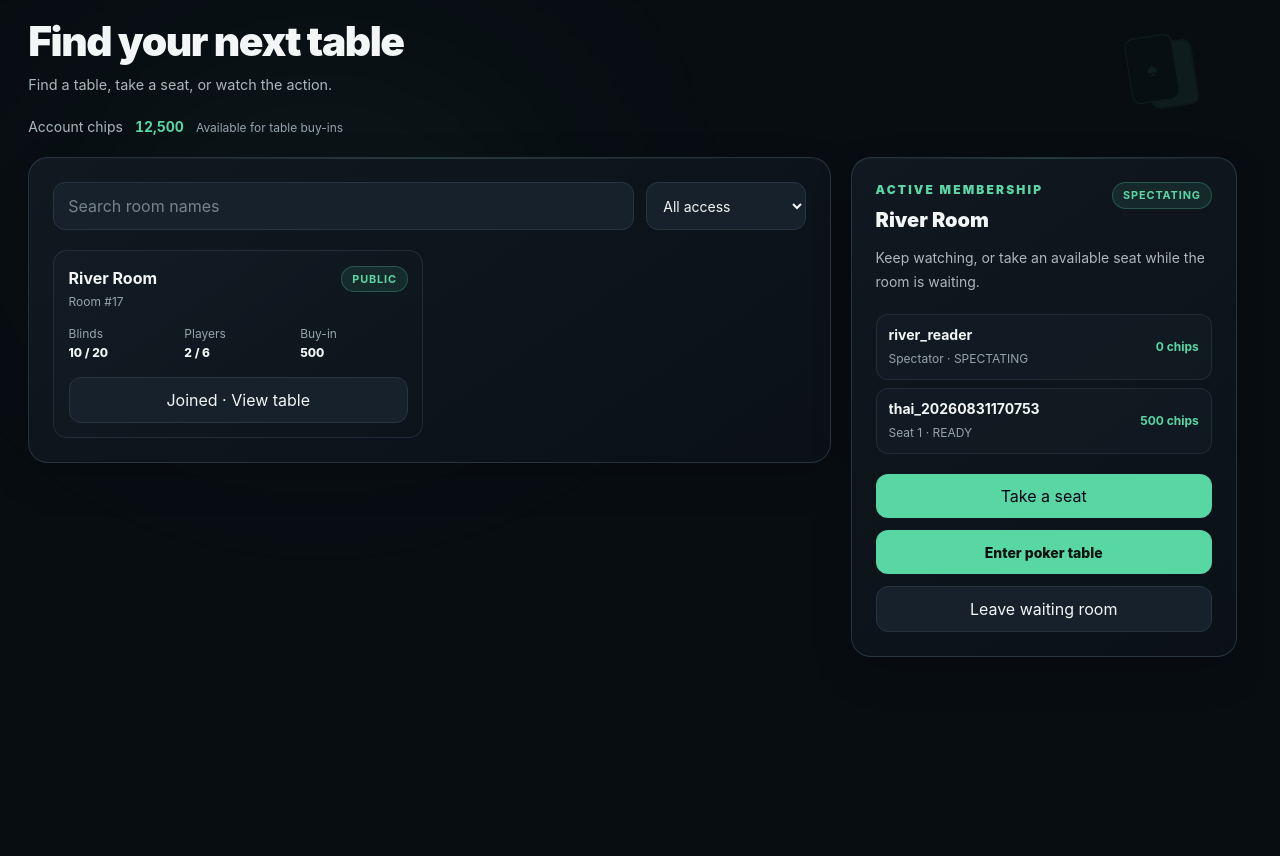
RoomsPage membership restoration › refreshes authoritative occupancy and keeps the spectator chooser open after a stale-seat conflict
Click the button "Take a seat": (1044, 496) [876, 474, 1212, 518]
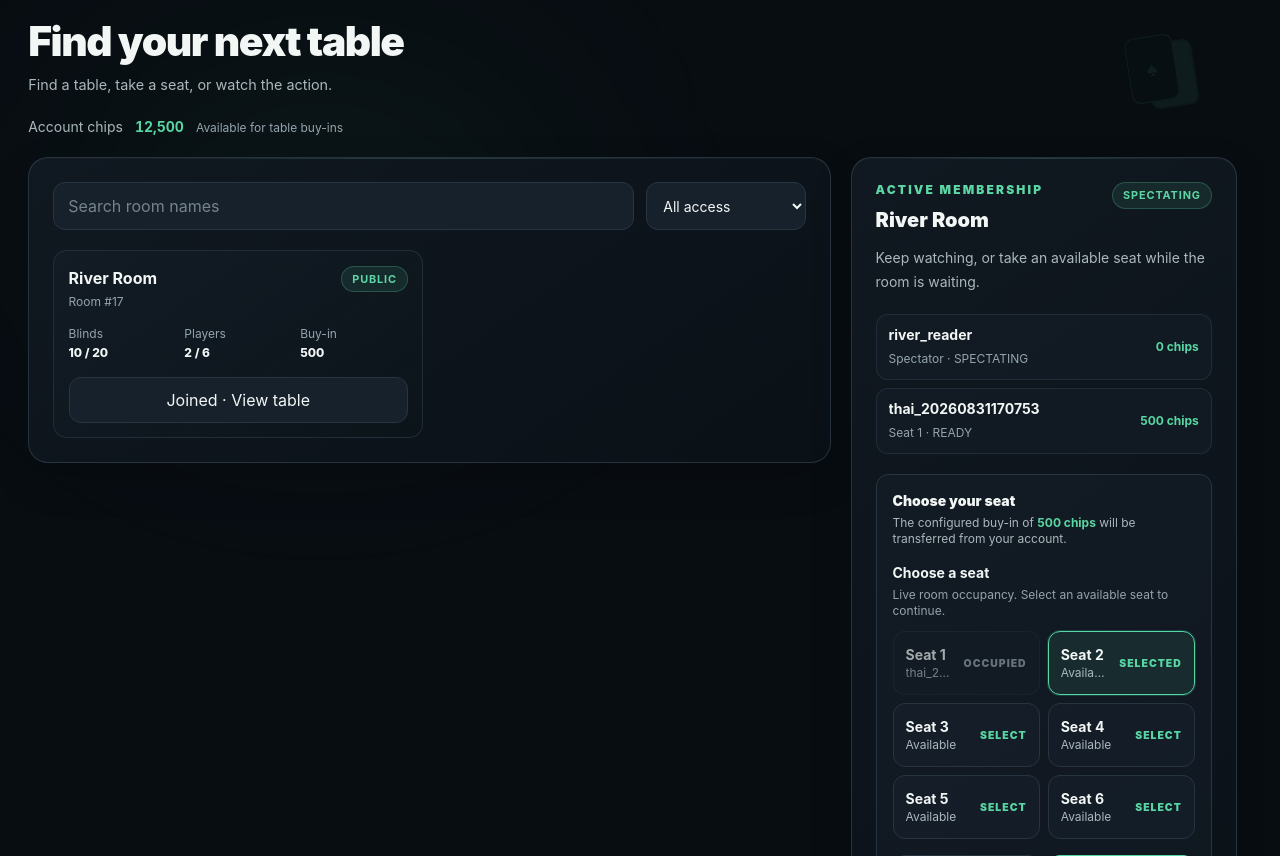
Expected: the button "Seat 1 thai_20260831170753 Occupied" is disabled, [892, 632, 1040, 696]
Click the button "Seat 2 Available Selected": (1121, 664) [1048, 632, 1195, 696]
(page scrolled)
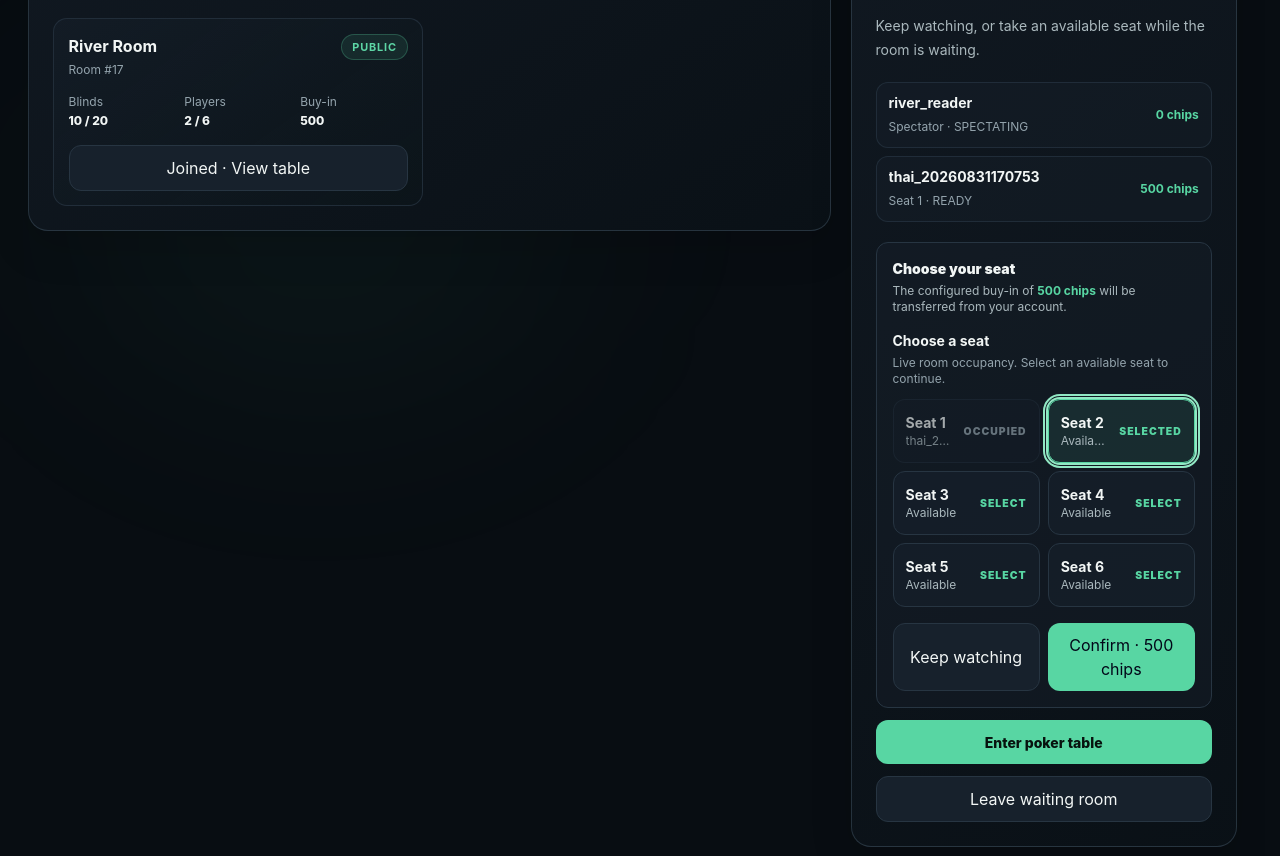
Click the button "Confirm · 500 chips": (1121, 658) [1048, 624, 1195, 692]
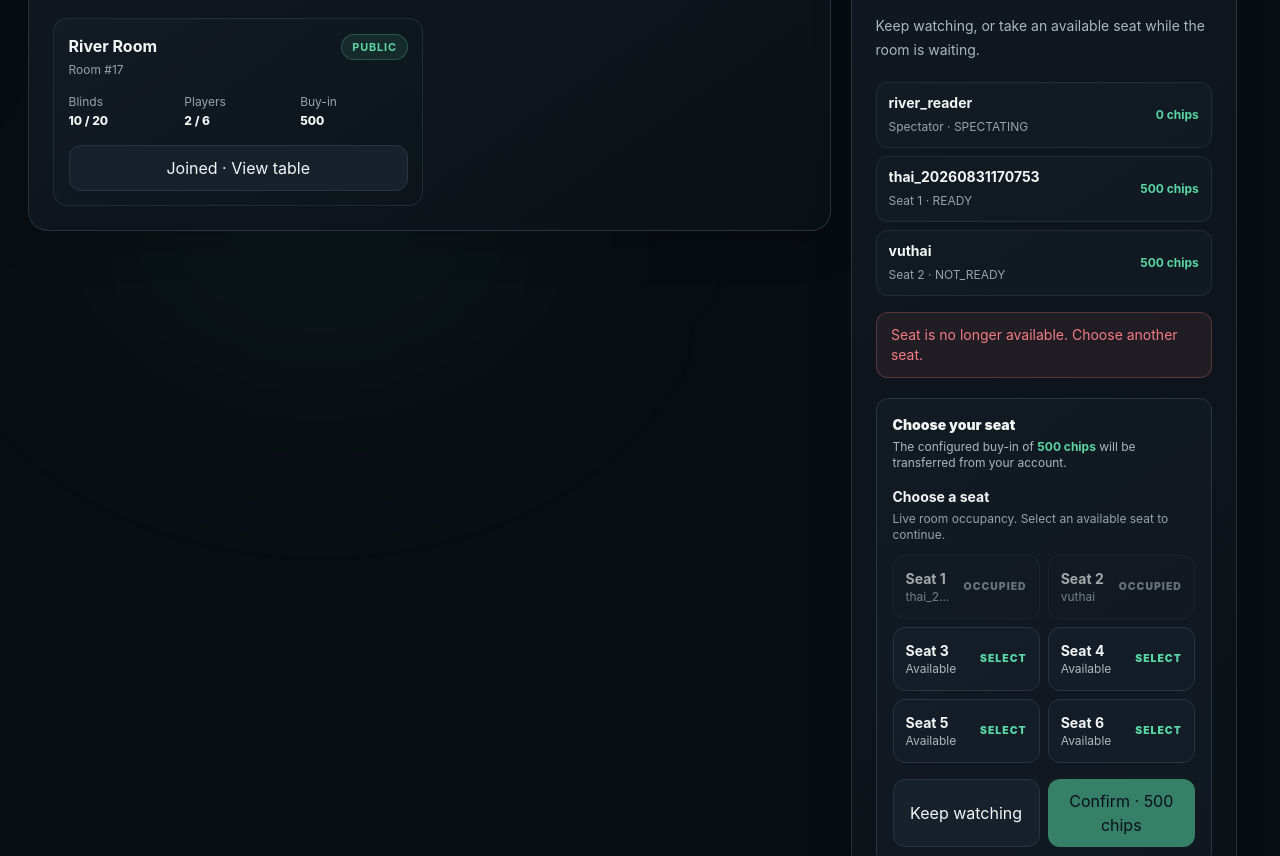
Expected: the message reads "Seat is no longer available. Choose another seat.", [891, 326, 1178, 363]
Expected: the button "Seat 2 vuthai Occupied" is disabled, [1048, 555, 1195, 619]
Expected: the button "Confirm · 500 chips" is disabled, [1048, 779, 1195, 847]
